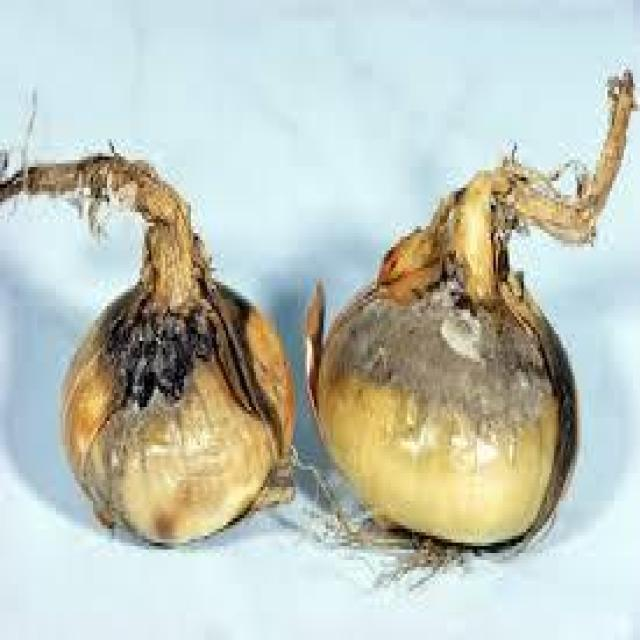Onion: (316, 66, 636, 574), (0, 136, 296, 553)
